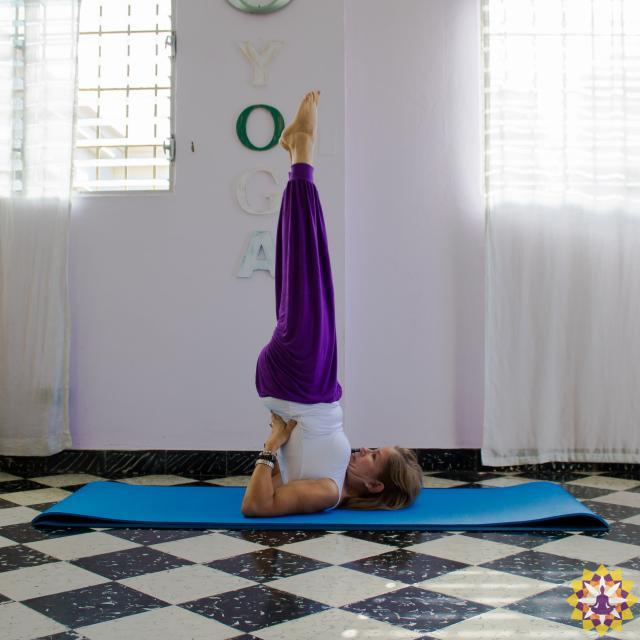yoga-pose shoulderstand: (232, 71, 417, 522)
